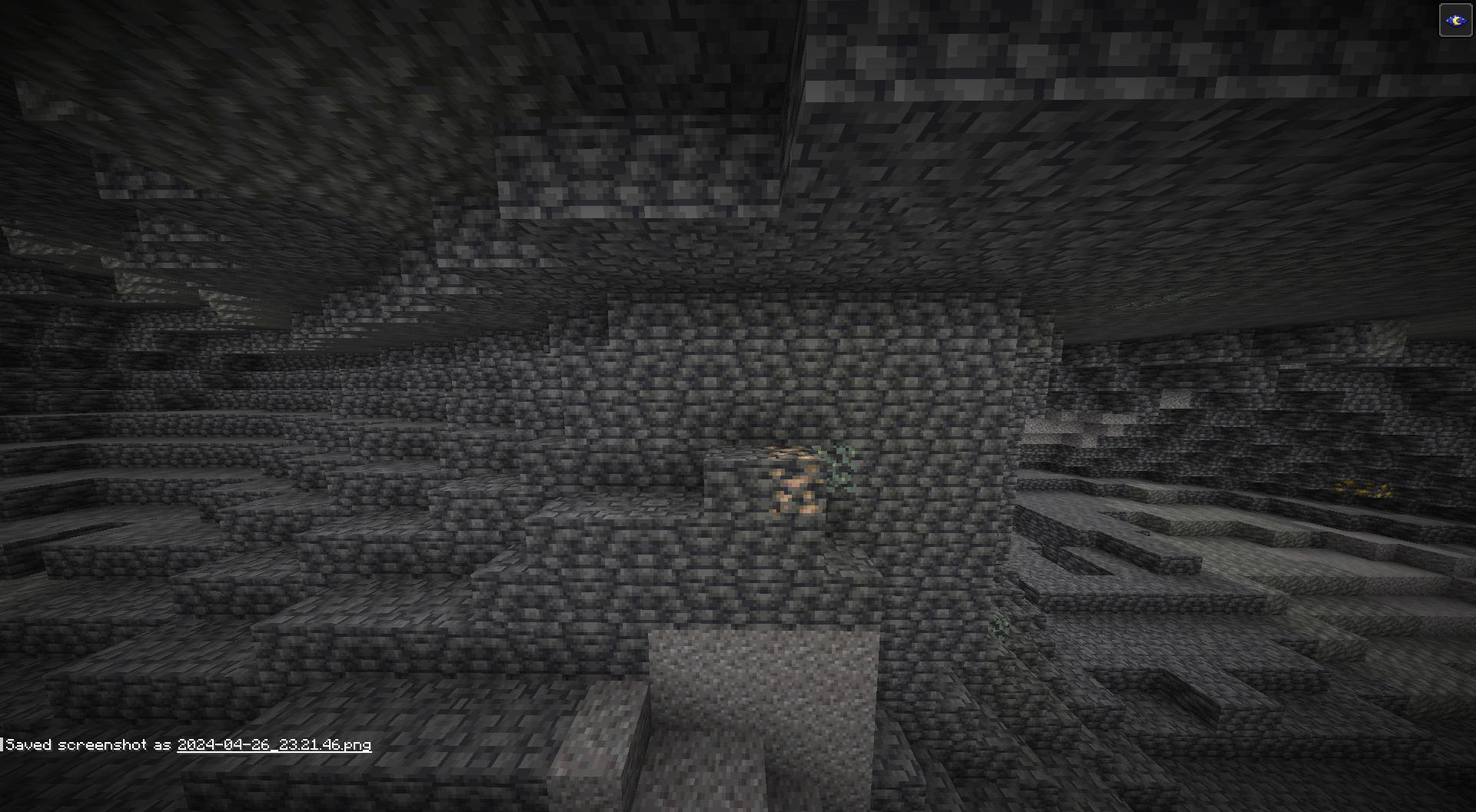gold ore: (1337, 473, 1394, 508)
iron ore: (761, 442, 827, 515)
